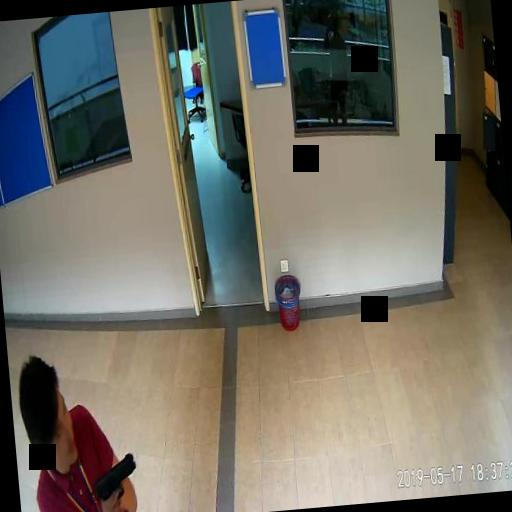Handgun: (90, 450, 138, 512)
